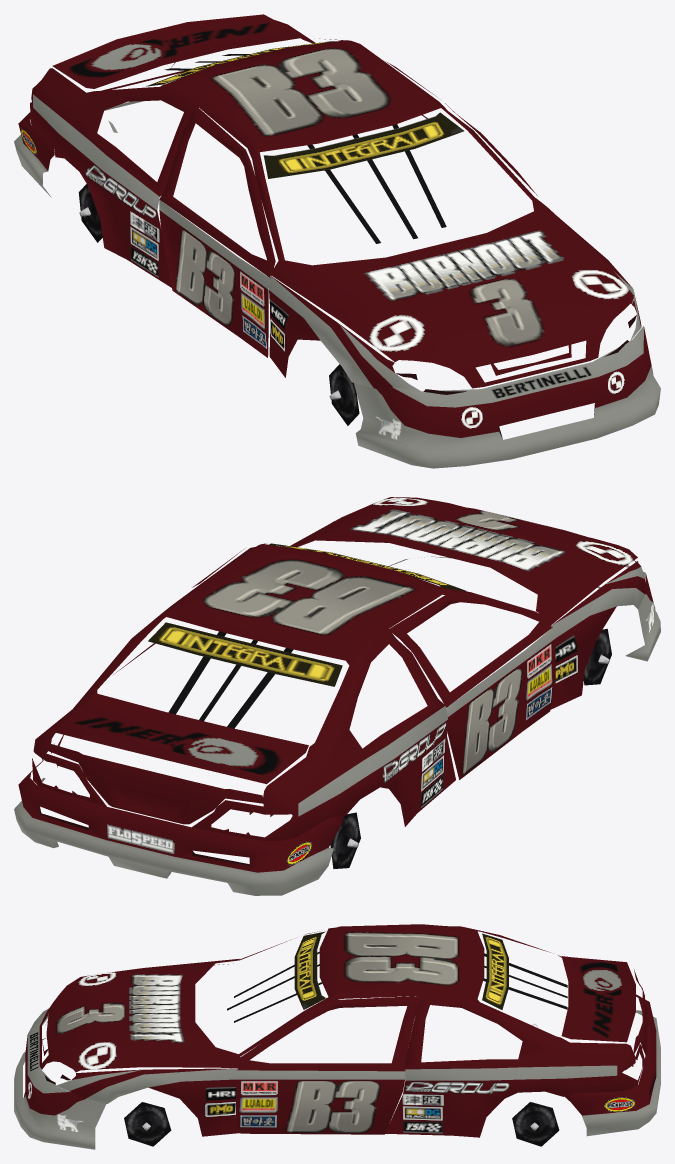
Rendered from car-HSPC_Car20.glb.
The picture shows the model from 3 angles, top to bottom: view 1: azimuth 30°, elevation 25°; view 2: azimuth 150°, elevation 25°; view 3: azimuth 270°, elevation 25°; orthographic projection. The views are drawn at different scales.
Parts seen in each view (by area): view 1: HSPC_Car20; view 2: HSPC_Car20; view 3: HSPC_Car20.
Boxes of the visible parts, x1=… form: HSPC_Car20: x1=14, y1=14, x2=660, y2=468; HSPC_Car20: x1=14, y1=497, x2=660, y2=895; HSPC_Car20: x1=14, y1=924, x2=660, y2=1149.
Bounding box in the file's own units: 2.16 × 1.28 × 5.25.
Materials: 19 (19 with a texture image).
